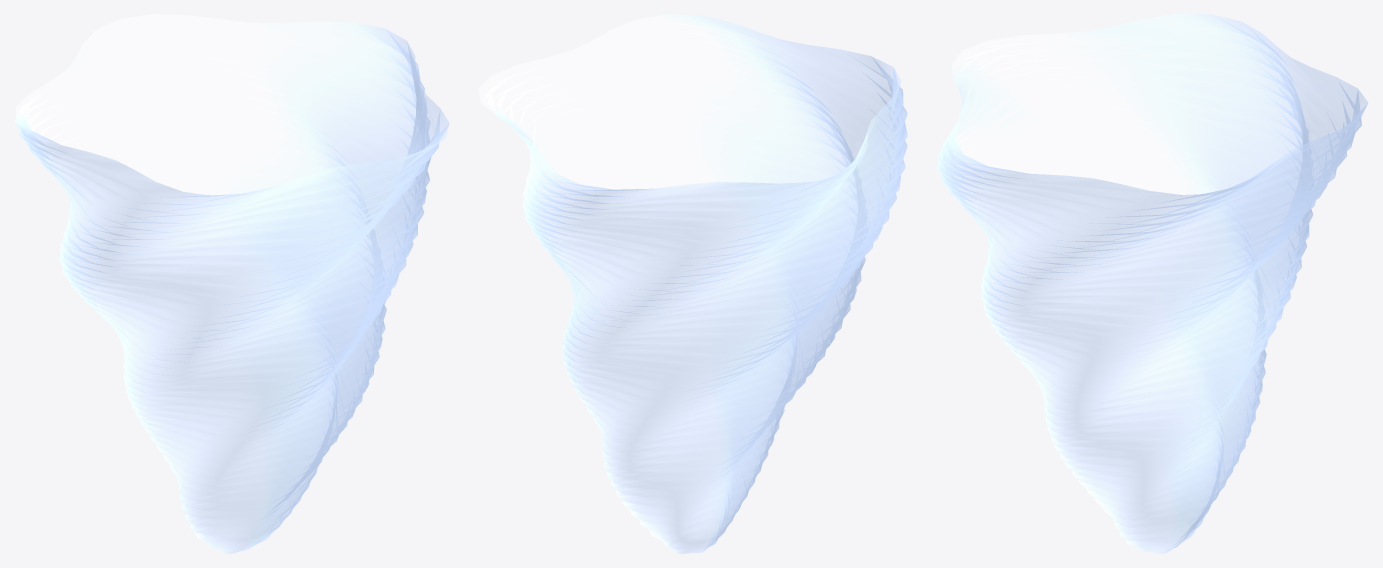
File: Tornado.glb
The picture shows the model from 3 angles, left to right: view 1: azimuth 30°, elevation 25°; view 2: azimuth 150°, elevation 25°; view 3: azimuth 270°, elevation 25°; orthographic projection. The views are drawn at different scales.
Parts seen in each view (by area): view 1: Tornado; view 2: Tornado; view 3: Tornado.
Boxes of the visible parts, left/top/right/bottom form: Tornado: left=14, top=14, right=449, bottom=553; Tornado: left=478, top=14, right=907, bottom=553; Tornado: left=936, top=14, right=1367, bottom=553.
Size of the model in its own units: 2.64 by 3 by 2.66.
